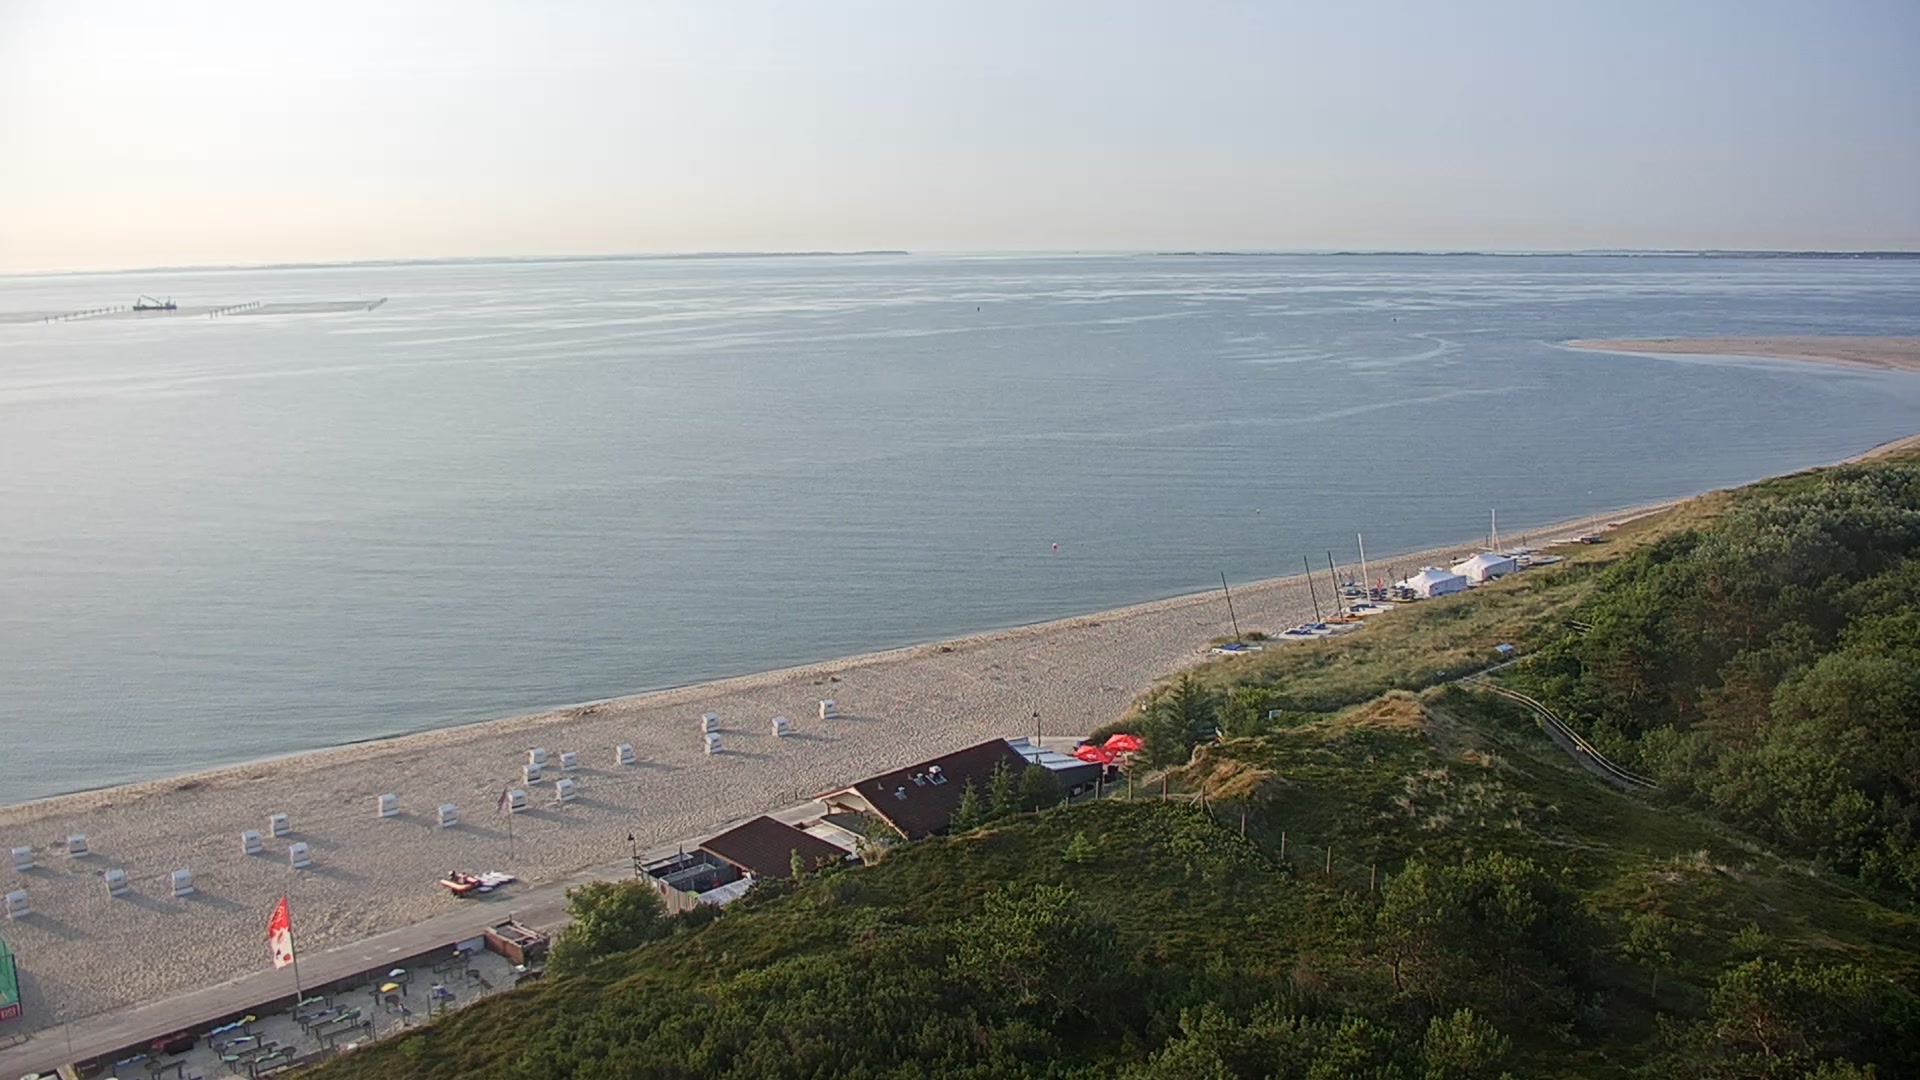sea: (1298, 555, 1333, 632), (1215, 571, 1251, 640), (1349, 530, 1379, 612), (1323, 549, 1352, 625), (1478, 506, 1511, 556), (439, 869, 483, 891), (132, 293, 178, 311)
